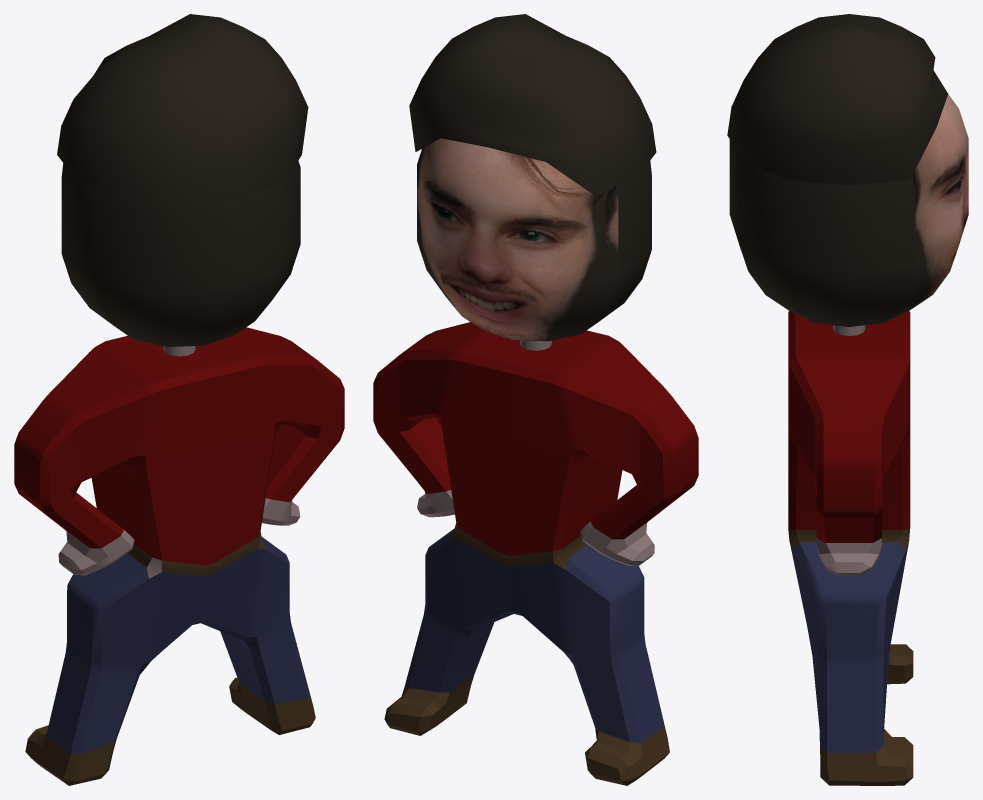
Rendered from Glenn.fbx.
The picture shows the model from 3 angles, left to right: view 1: azimuth 30°, elevation 25°; view 2: azimuth 150°, elevation 25°; view 3: azimuth 270°, elevation 25°; orthographic projection.
Parts seen in each view (by area): view 1: pCube1, pSphere2, pSphere1; view 2: pCube1, pSphere1, pSphere2; view 3: pCube1, pSphere1, pSphere2.
Part boxes in pixels (bbox=[...]): pCube1: bbox=[14, 327, 344, 785]; pSphere2: bbox=[57, 14, 308, 206]; pSphere1: bbox=[61, 160, 300, 346]; pCube1: bbox=[373, 322, 698, 785]; pSphere1: bbox=[417, 138, 651, 341]; pSphere2: bbox=[409, 14, 656, 196]; pCube1: bbox=[788, 311, 913, 785]; pSphere1: bbox=[729, 94, 968, 326]; pSphere2: bbox=[727, 14, 947, 185].
Bounding box in the file's own units: 2.87 × 6.47 × 1.98.
